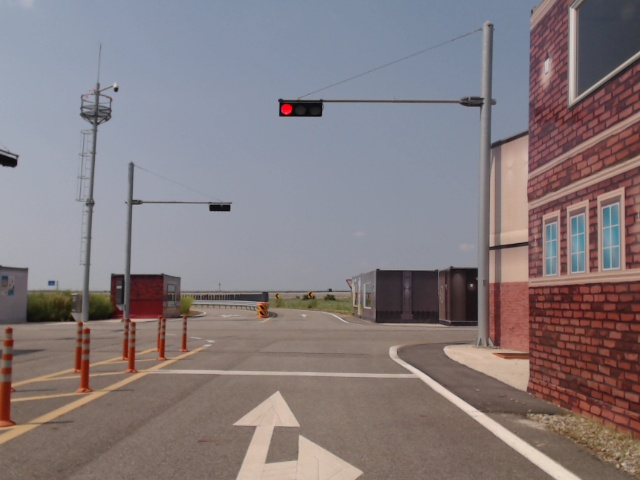red_3: (279, 100, 323, 117)
